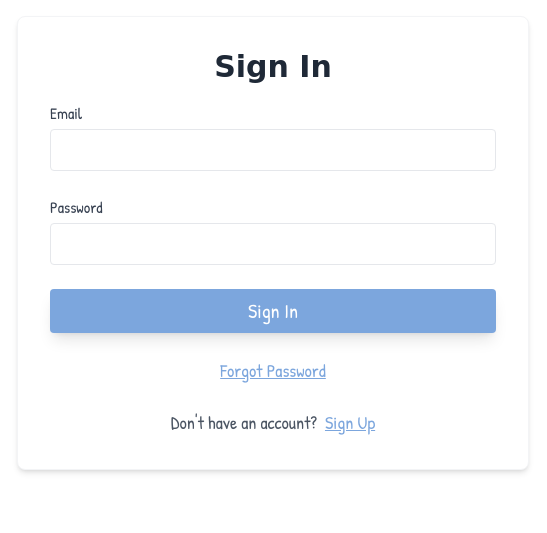
Test: AuthForm Component › toggles between sign-in and sign-up forms
Click the button "Sign Up": (350, 423) x1=325 y1=409 x2=375 y2=437
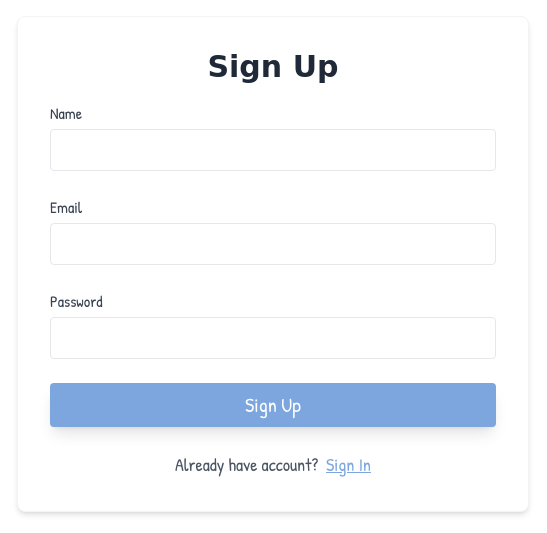
Expected: the field labelled "Name" is shown, x1=50 y1=129 x2=496 y2=171
Now the heading "Sign Up" is shown, box x1=208 y1=49 x2=338 y2=84
Now the button "Sign Up" is shown, box x1=50 y1=383 x2=496 y2=427
